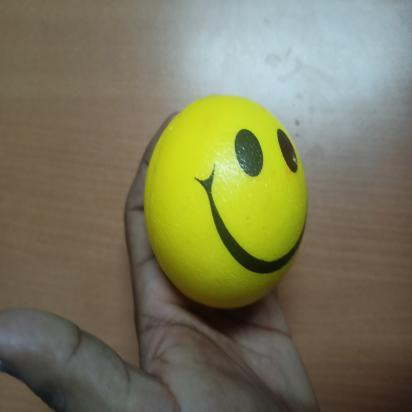Yellowball: (142, 92, 312, 312)
